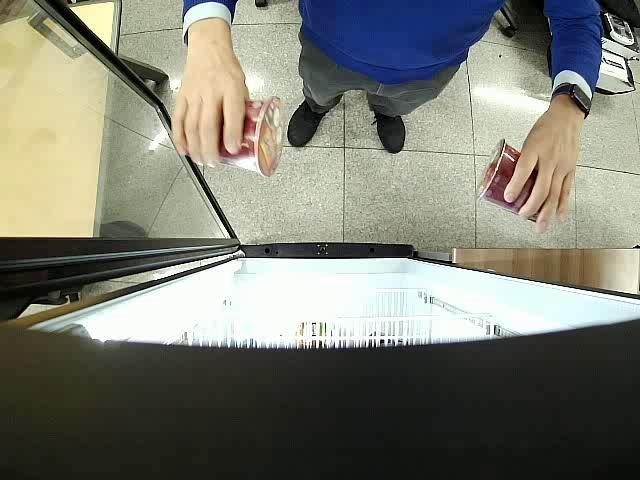06_nuguri_S: (476, 138, 544, 224), (219, 96, 284, 176)
